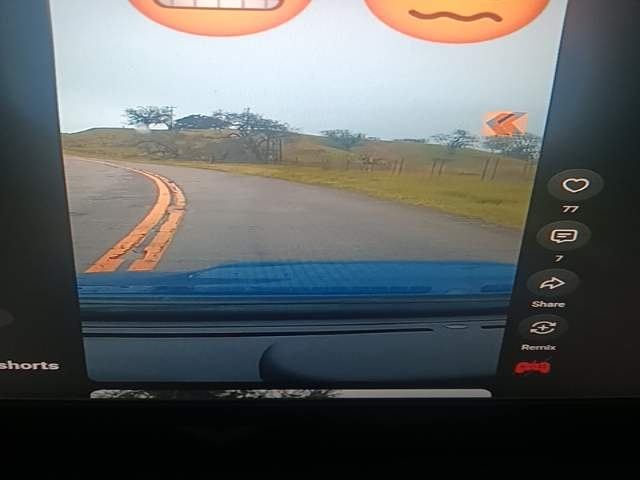pothole: (536, 403, 640, 480)
